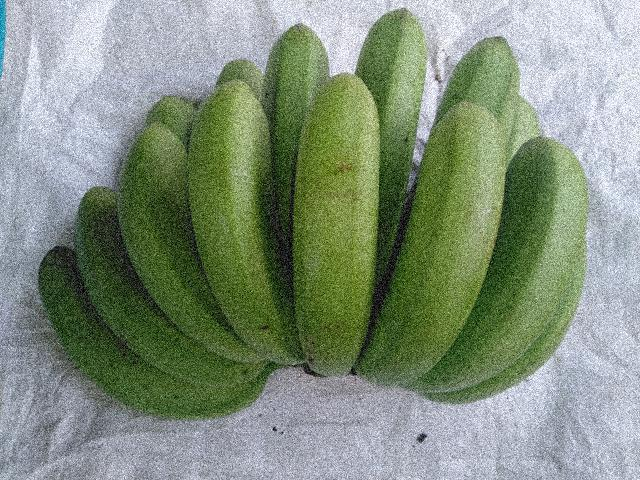unripe: (269, 71, 425, 391), (372, 100, 512, 421), (113, 130, 267, 379), (193, 74, 301, 397), (498, 122, 591, 391), (351, 3, 432, 244), (57, 172, 171, 309), (432, 27, 527, 103), (257, 17, 333, 100)
